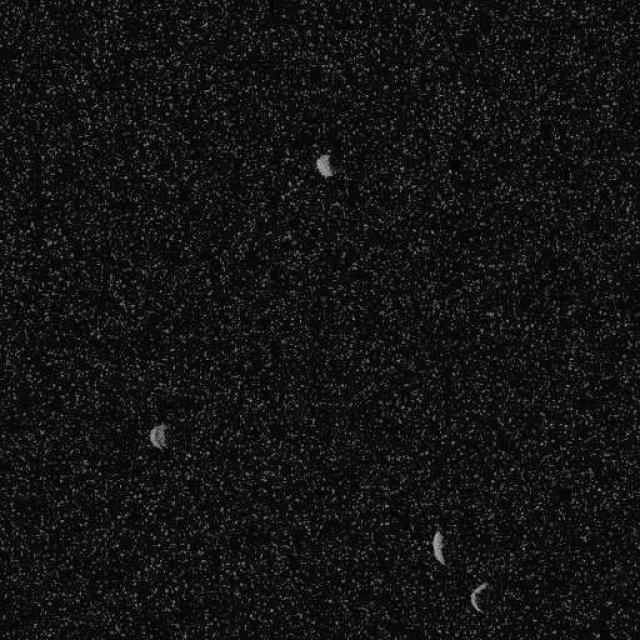D2: (468, 580, 488, 614), (148, 422, 168, 450), (314, 152, 334, 178), (432, 529, 446, 566)
